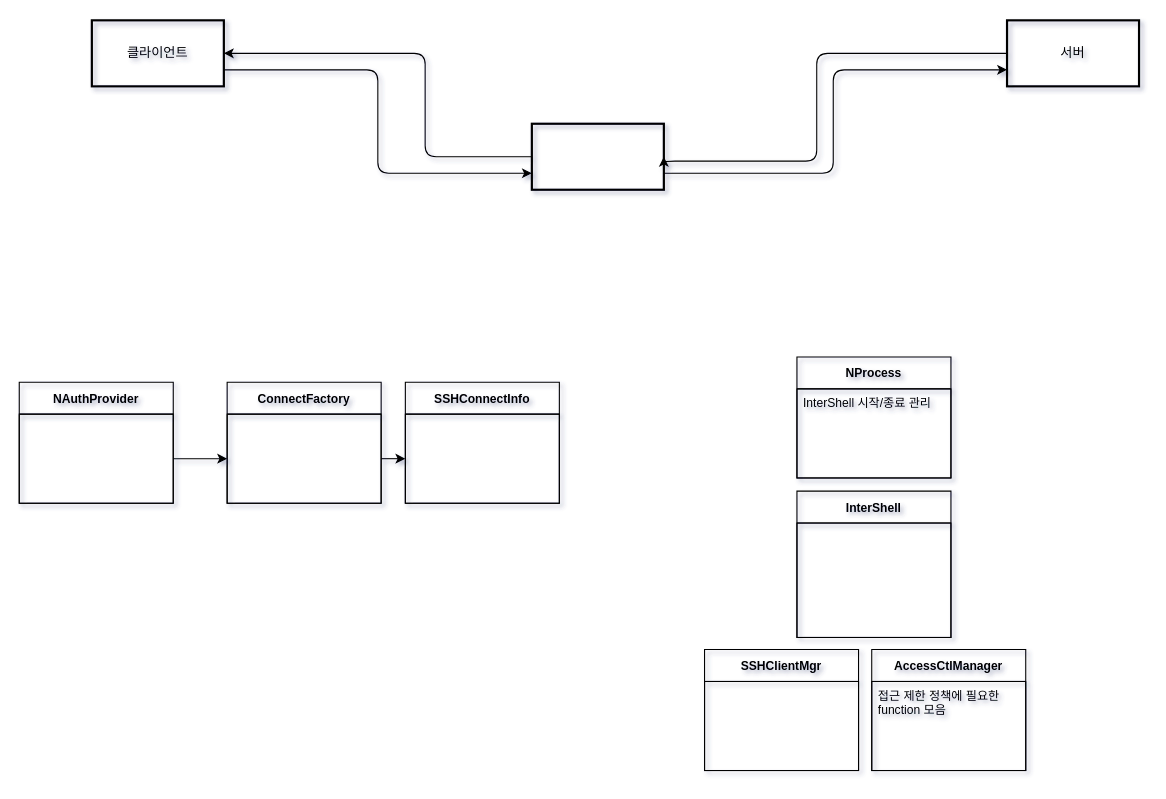
Some shapes in this 1166 by 799 pixel diagram are drawn without their labels. Here are the shapes that lost their labels. From the top down, the centre of each, then its label:
point (597, 156): SAC
point (95, 458): DB에 매핑된 정보가 있는지 체크하고 전반적인 정보 객체들 매핑 시작하는 엔트리
point (303, 458): SessionID를 토대로 모든 곳에서 참조하여 사용하는 객체
point (481, 458): SSH프로토콜 한정해서 ConnectInfo 확장해서 쓰는 정보 객체 SAC_AUTH DB테이블
point (873, 579): 사용자 I/O의 엔트리 지점으로 제한 정책 분기를 위한 객체 모든 객체에 접근 가능하도록 참조하고 있는 객체들이 많이 매핑되어 있음.
point (781, 725): sshClinet의 세션에 적용할 function들의 모음
